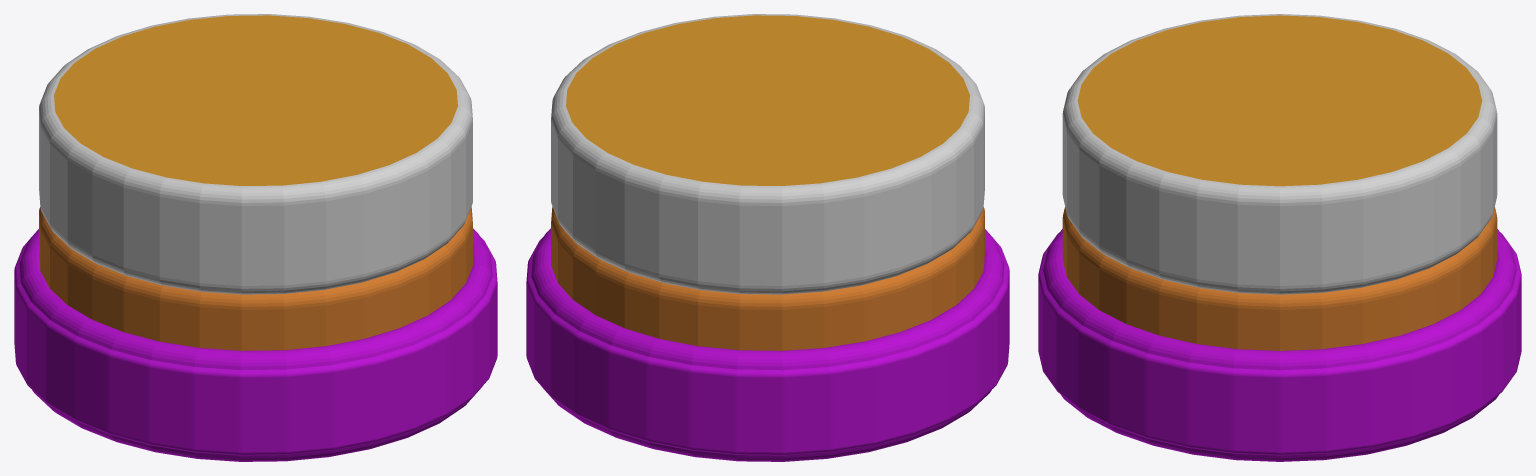
The model's file is HashiNodeTest2.fbx.
The picture shows the model from 3 angles, left to right: view 1: azimuth 30°, elevation 25°; view 2: azimuth 150°, elevation 25°; view 3: azimuth 270°, elevation 25°; orthographic projection.
Parts seen in each view (by area): view 1: HashiOneNodeNew.001, PlateHashi.001, HashiOneNodeNew; view 2: HashiOneNodeNew.001, PlateHashi.001, HashiOneNodeNew; view 3: HashiOneNodeNew.001, PlateHashi.001, HashiOneNodeNew.
Boxes of the visible parts, x1,y1,x2,y2 form: HashiOneNodeNew.001: (39,14,472,294); PlateHashi.001: (14,228,497,461); HashiOneNodeNew: (39,206,472,350); HashiOneNodeNew.001: (551,14,984,294); PlateHashi.001: (526,228,1009,461); HashiOneNodeNew: (551,206,984,350); HashiOneNodeNew.001: (1062,14,1497,294); PlateHashi.001: (1038,229,1521,461); HashiOneNodeNew: (1062,207,1497,350).
Bounding box in the file's own units: 222 × 222 × 135.
